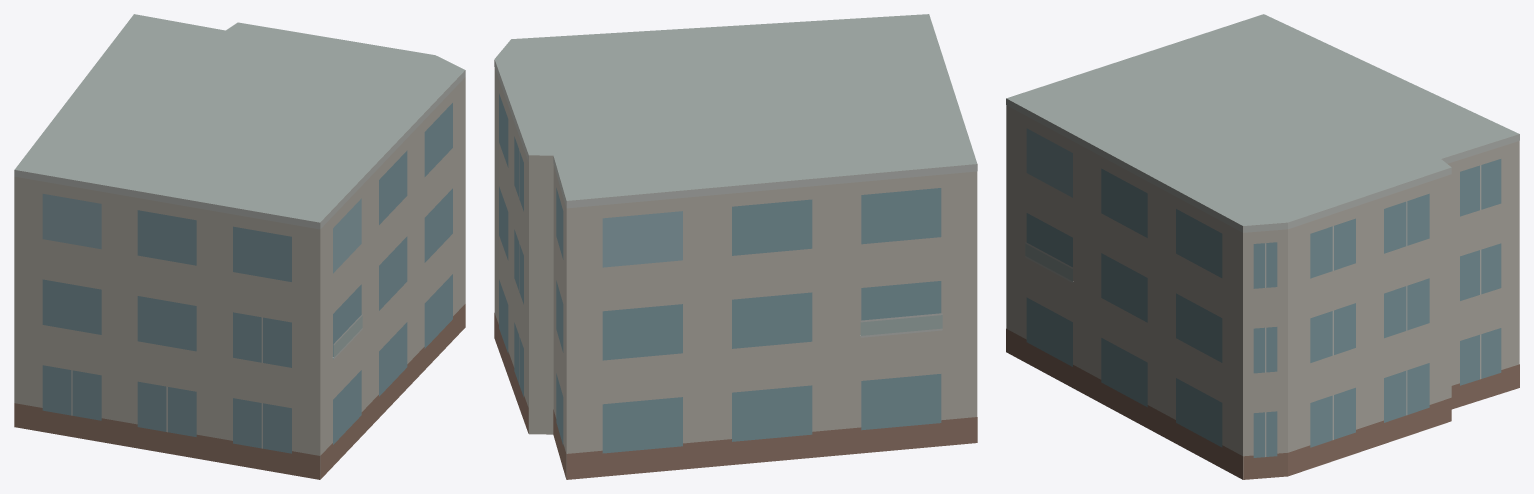
File: survey-upis-32660636.glb
3 renders of one model, left to right at view 1: azimuth 30°, elevation 25°; view 2: azimuth 150°, elevation 25°; view 3: azimuth 270°, elevation 25°, orthographic. The views are drawn at different scales.
Visible parts, largest first — view 1: survey-upis-32660636.tmp; view 2: survey-upis-32660636.tmp; view 3: survey-upis-32660636.tmp.
Boxes of the visible parts, x1=… form: survey-upis-32660636.tmp: x1=14, y1=14, x2=465, y2=479; survey-upis-32660636.tmp: x1=494, y1=14, x2=977, y2=479; survey-upis-32660636.tmp: x1=1006, y1=14, x2=1519, y2=479.
Size of the model in its own units: 16.41 by 9.15 by 16.79.
